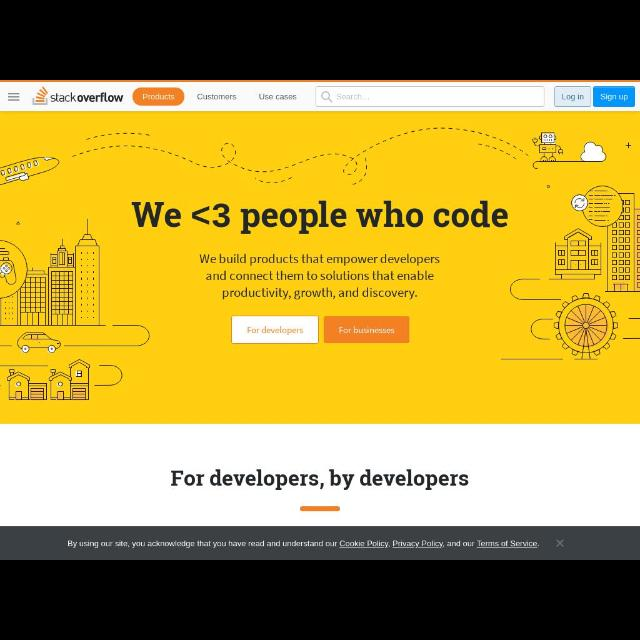icon: (321, 90, 334, 104), (7, 92, 20, 102), (554, 538, 566, 548)
image: (1, 112, 640, 424), (32, 86, 124, 106)
input: (316, 87, 544, 107)
text: (129, 202, 509, 234), (198, 252, 440, 300), (171, 468, 469, 490), (68, 540, 540, 548), (196, 93, 238, 101), (258, 93, 298, 101), (336, 94, 370, 100)
textbutton: (232, 316, 318, 344), (324, 317, 410, 343), (132, 87, 186, 105), (555, 87, 591, 107), (594, 88, 634, 106)
